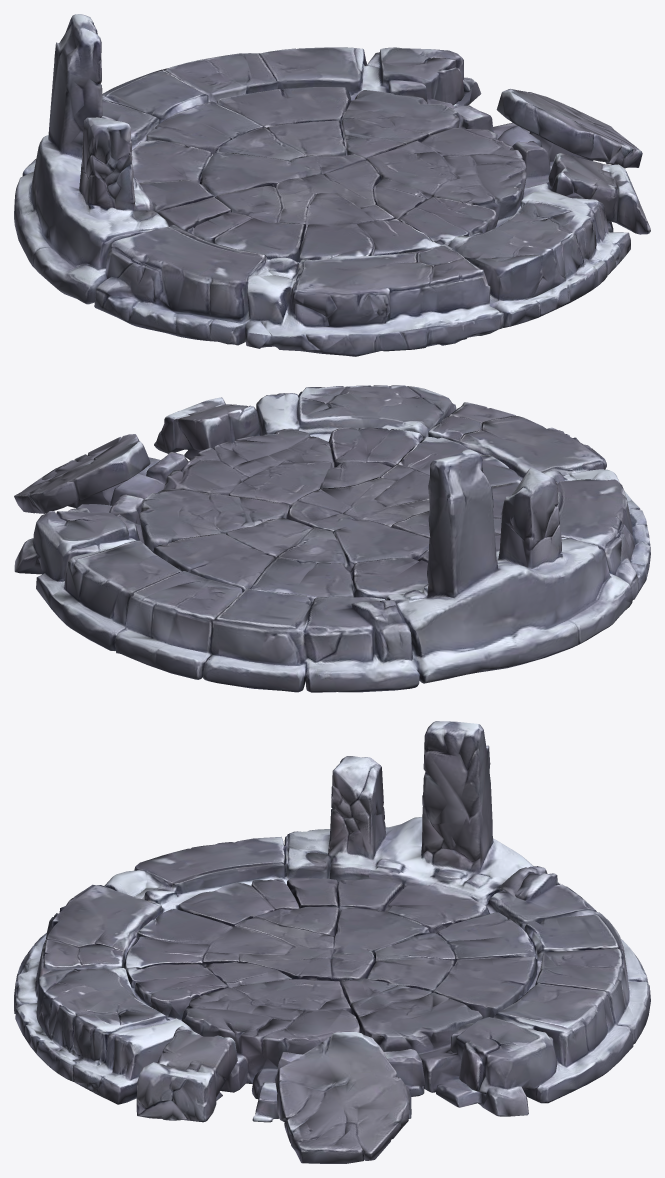
The model's file is plataforma.glb.
3 views of the same model, one above another, from view 1: azimuth 30°, elevation 25°; view 2: azimuth 150°, elevation 25°; view 3: azimuth 270°, elevation 25° (orthographic).
Bounding box in the file's own units: 0.9793 × 0.3329 × 0.9309.
Materials: 1 (1 with a texture image).
